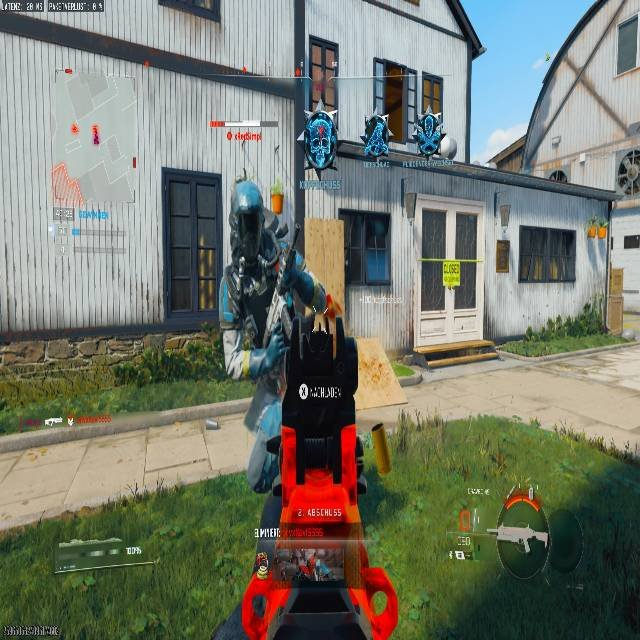head: (230, 178, 270, 233), (420, 114, 434, 129)
player: (222, 179, 330, 382), (299, 108, 335, 178), (412, 111, 447, 156), (360, 112, 390, 155)
